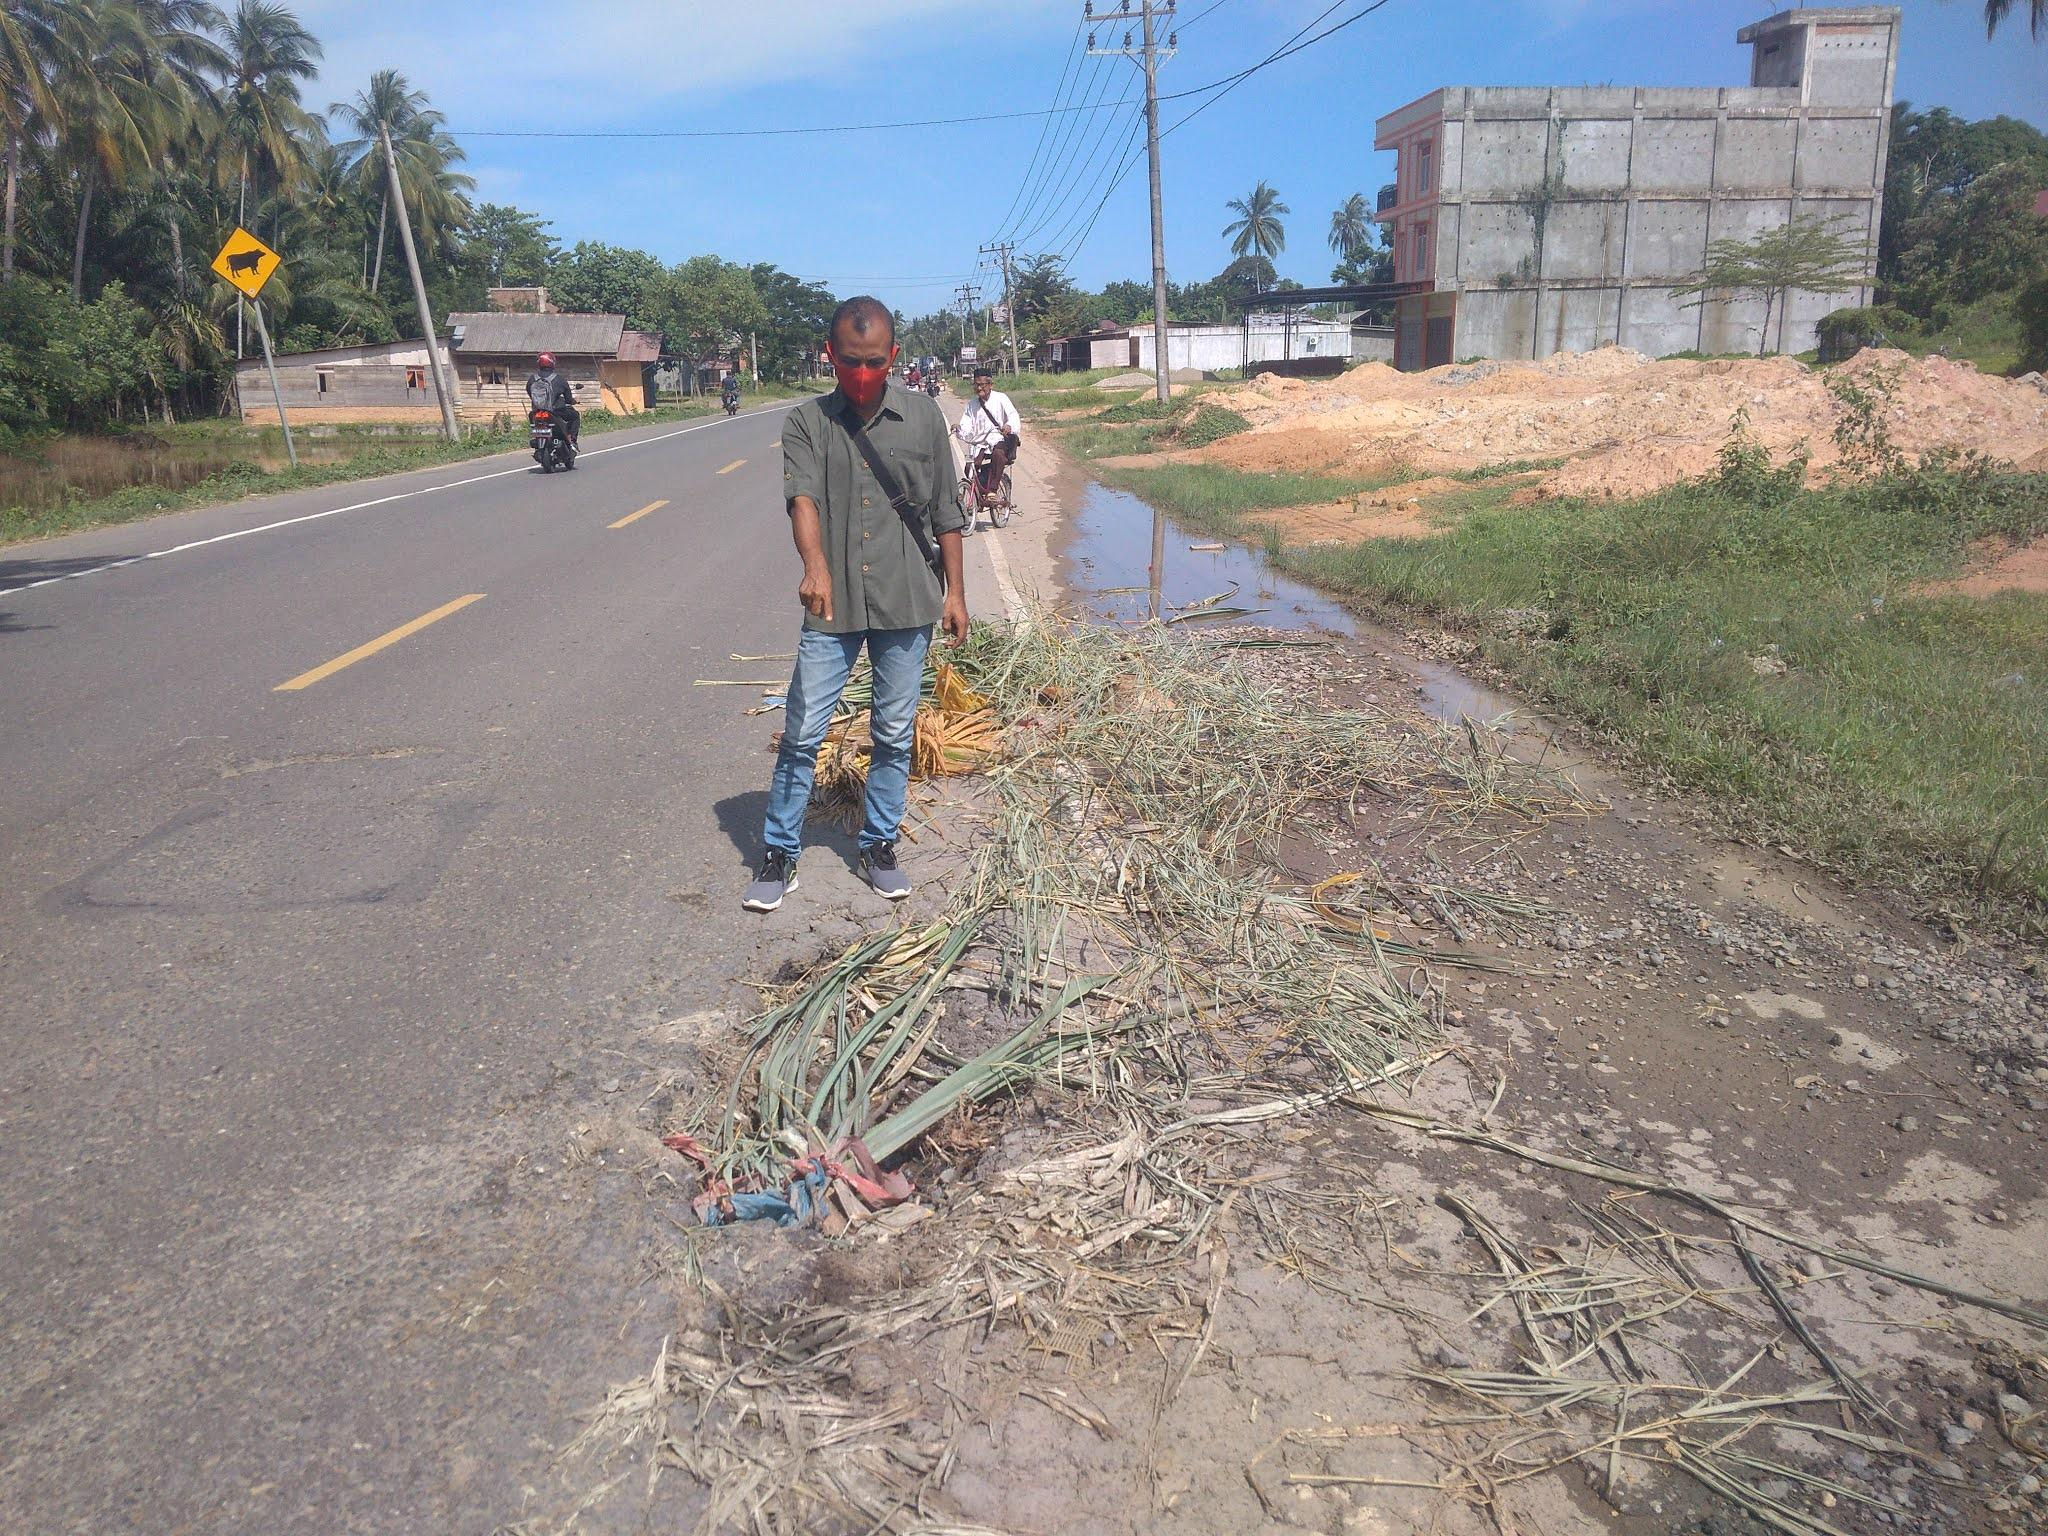Pothole: (1021, 444, 1514, 791), (692, 1021, 1003, 1267)
